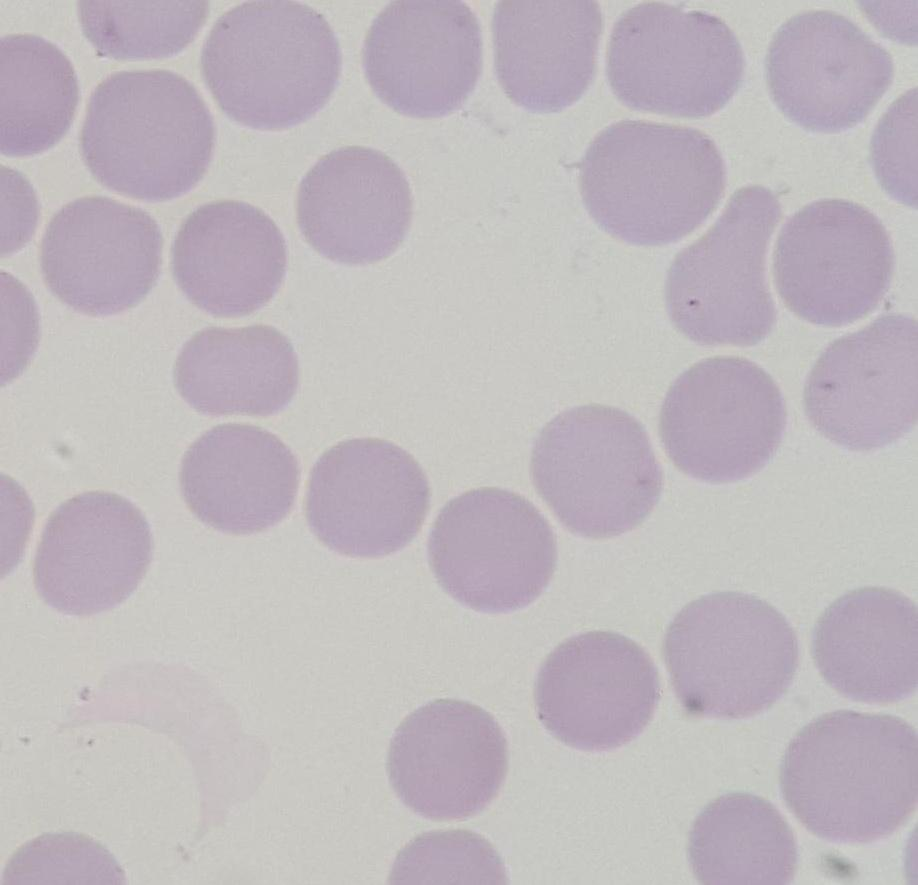Uninfected: (662, 186, 785, 348), (81, 68, 218, 202), (578, 121, 724, 245), (662, 592, 799, 722), (531, 404, 663, 537), (203, 3, 342, 129), (782, 710, 915, 841), (659, 356, 787, 484), (426, 487, 555, 614), (606, 5, 742, 120), (40, 194, 166, 318), (304, 437, 432, 559), (533, 630, 661, 752), (803, 315, 918, 450), (766, 13, 893, 134), (772, 197, 891, 326), (33, 490, 153, 616), (385, 700, 507, 820), (293, 145, 413, 265), (177, 422, 302, 537), (363, 1, 484, 117), (172, 198, 291, 313), (811, 587, 918, 707), (491, 1, 603, 112), (173, 322, 299, 419)
